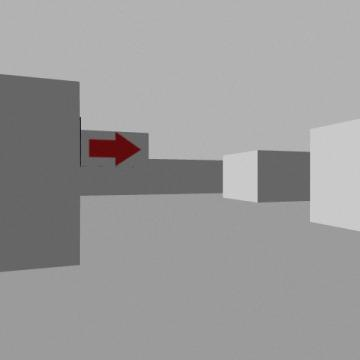red_right: (89, 132, 141, 165)
